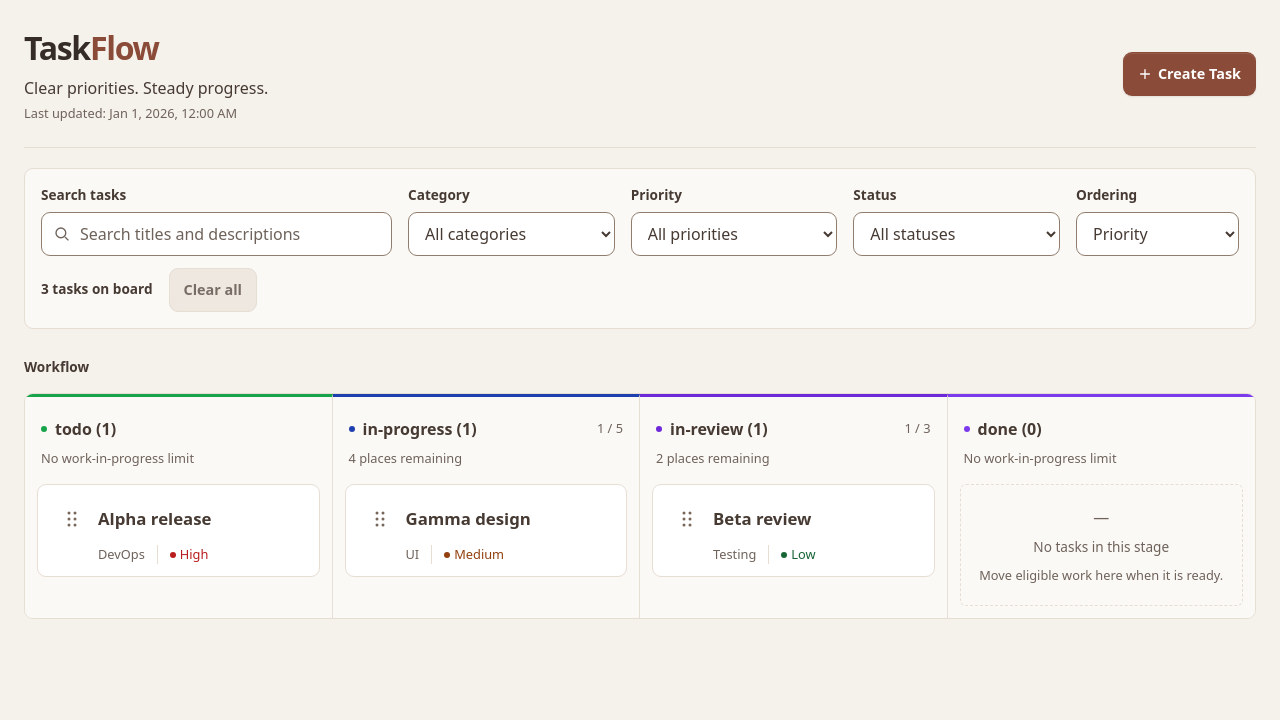
it: finds titles and descriptions and clears search without clearing filters or losing focus
Type "ALPHA" into the search field labelled "Search tasks".
click(216, 234); type("ALPHA")  # box left=41, top=212, right=392, bottom=256
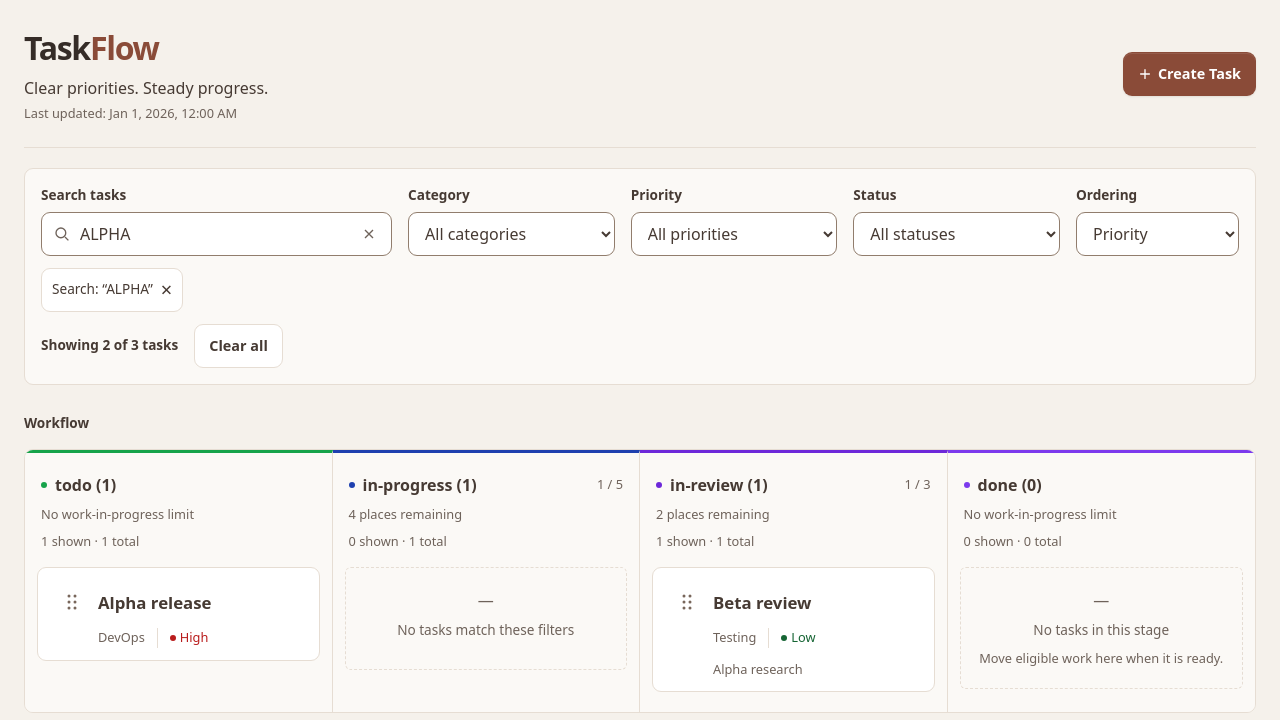
Expected: the button with aria-label "Open task Beta review" is shown, left=713, top=580, right=922, bottom=624
Expected: the text "Showing 2 of 3 tasks" is shown, left=41, top=335, right=178, bottom=356
Select "DevOps" in the dropdown labelled "Category" at x=511, y=234, box left=408, top=212, right=615, bottom=256
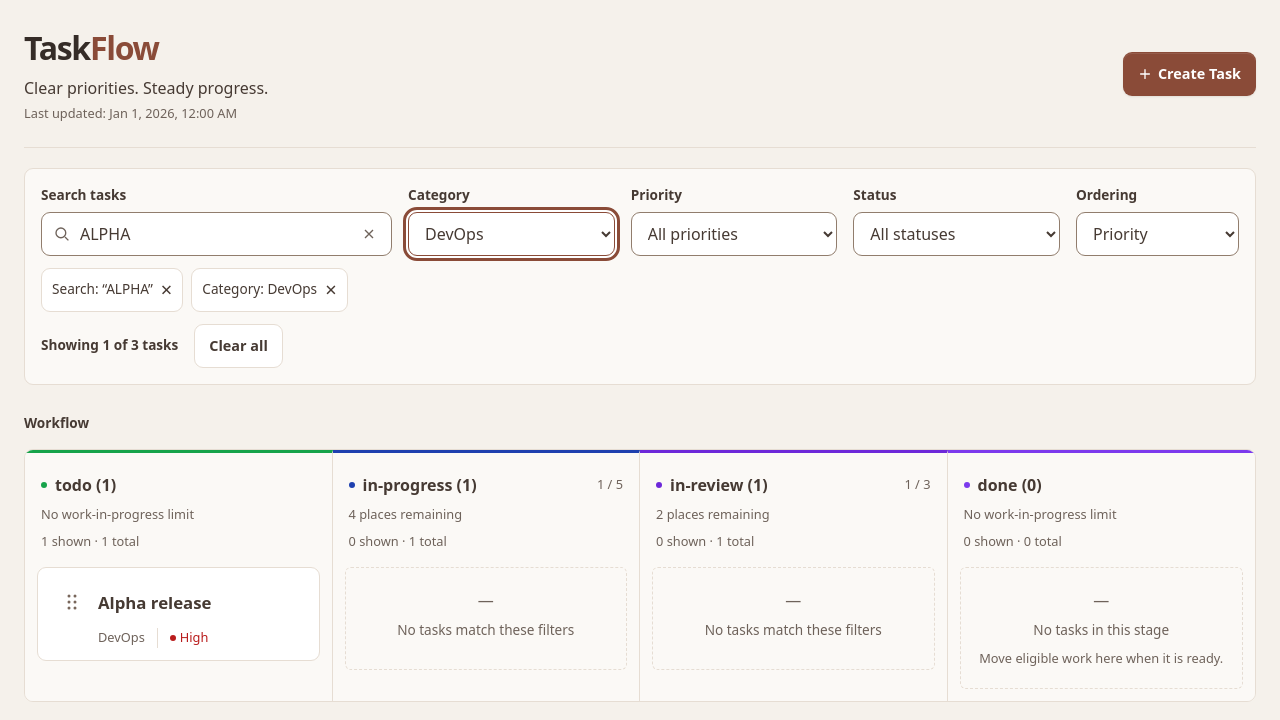
Expected: the text "Showing 1 of 3 tasks" is shown, left=41, top=335, right=178, bottom=356
Click the button named "Clear search".
click(369, 234)  # box left=347, top=212, right=391, bottom=256
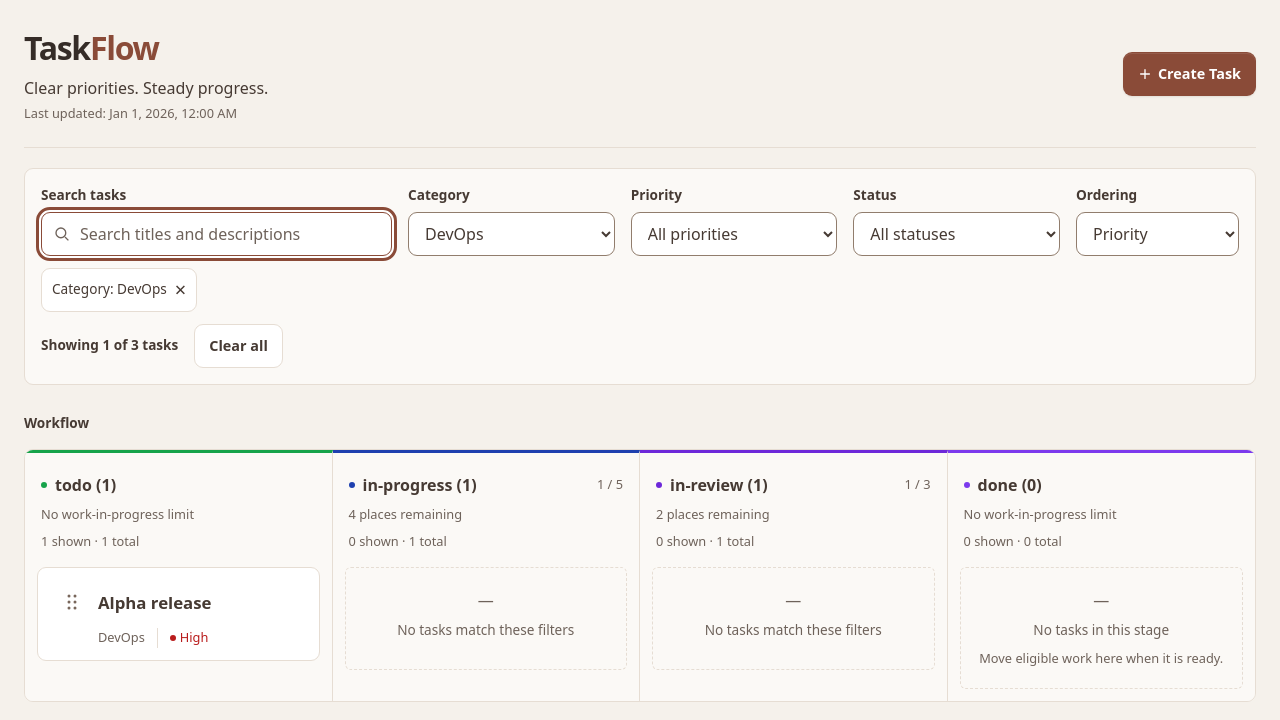
Expected: the button with aria-label "Remove Category: DevOps" is shown, left=41, top=268, right=197, bottom=312
Expected: the search field labelled "Search tasks" is empty, left=41, top=212, right=392, bottom=256
